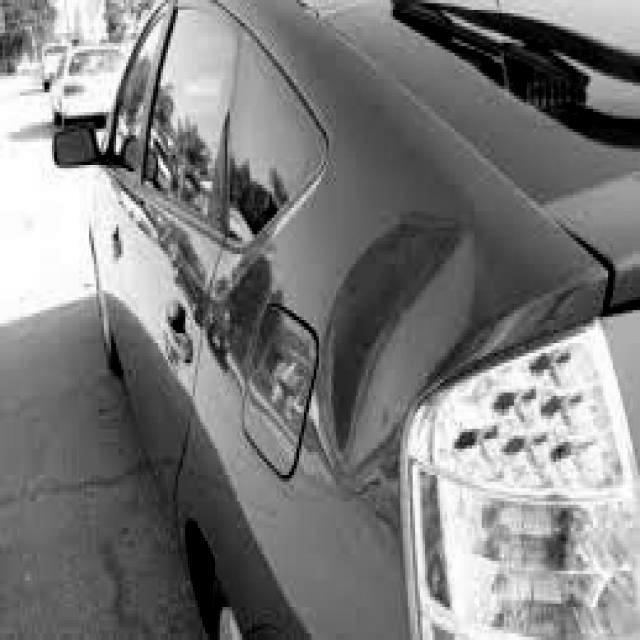quaterpanel-dent: (223, 182, 482, 637)
